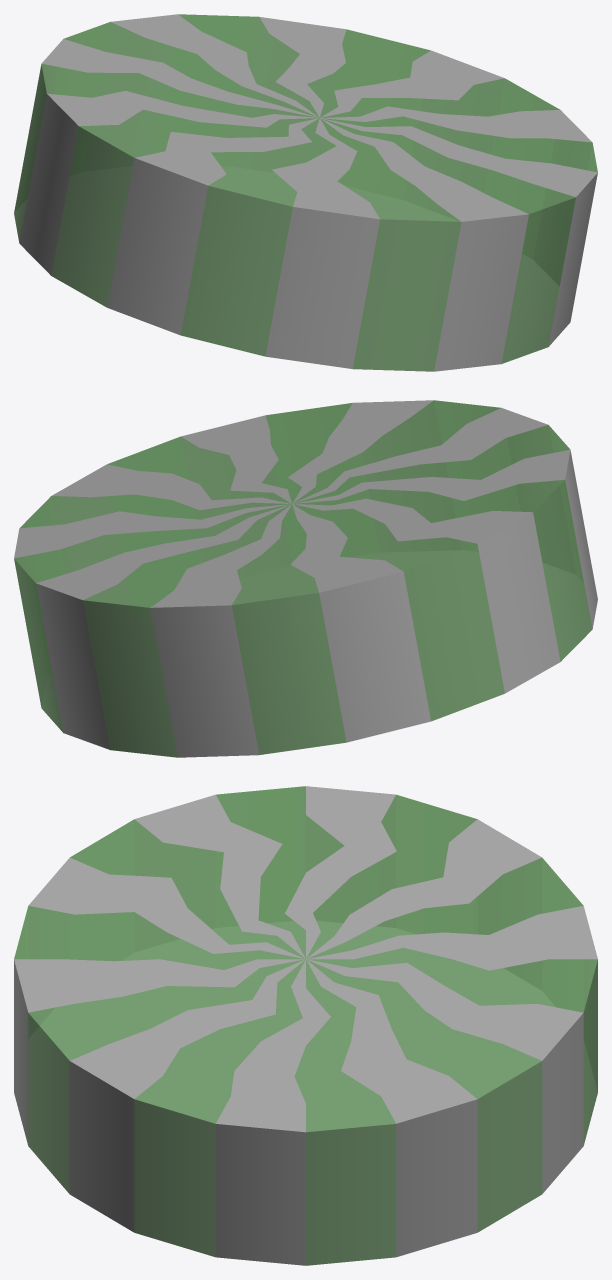
Rendered from CANDY2.fbx.
The picture shows the model from 3 angles, top to bottom: view 1: azimuth 30°, elevation 25°; view 2: azimuth 150°, elevation 25°; view 3: azimuth 270°, elevation 25°; orthographic projection. The views are drawn at different scales.
Visible parts, largest first — view 1: polySurface790; view 2: polySurface790; view 3: polySurface790.
Boxes of the visible parts, box(x1,y1,x2,y2) form: polySurface790: box(14, 14, 597, 371); polySurface790: box(14, 400, 597, 757); polySurface790: box(14, 786, 597, 1265).
Bounding box in the file's own units: 2.39 × 1.1 × 2.3.
